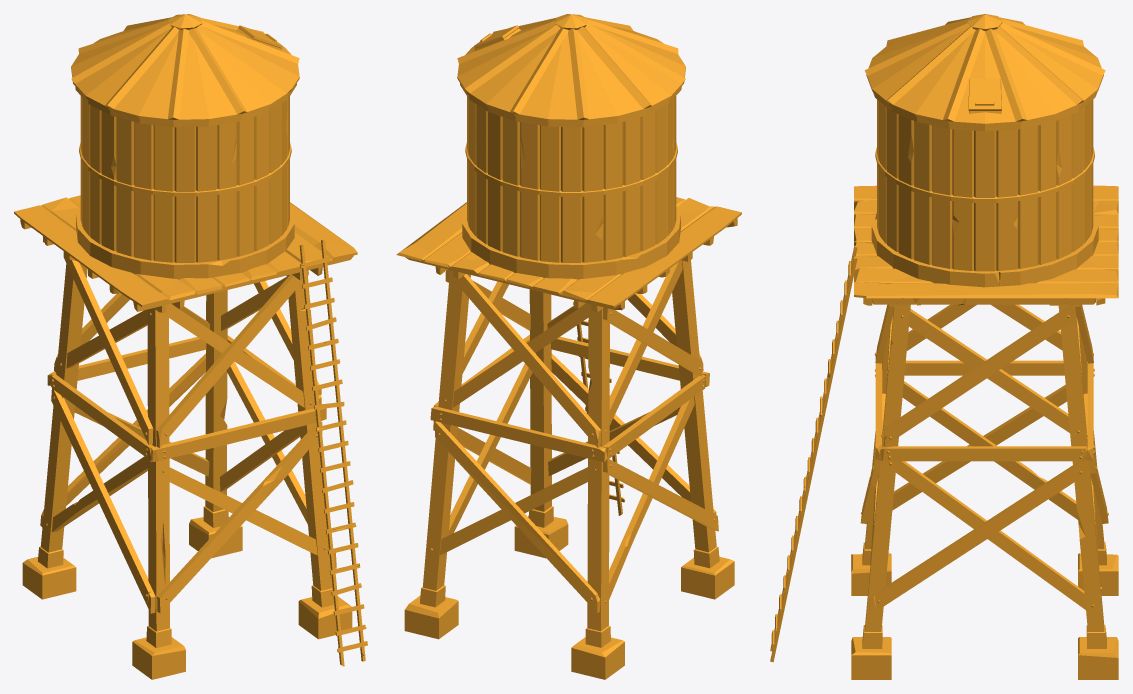
Rendered from SM_Tower_Water_Farm.fbx.
3 views of the same model, side by side, from view 1: azimuth 30°, elevation 25°; view 2: azimuth 150°, elevation 25°; view 3: azimuth 270°, elevation 25° (orthographic). The views are drawn at different scales.
Parts seen in each view (by area): view 1: tower-water-farm; view 2: tower-water-farm; view 3: tower-water-farm.
Part boxes in pixels (box(x1,y1,x2,y2)): tower-water-farm: box(14, 14, 367, 679); tower-water-farm: box(396, 14, 741, 679); tower-water-farm: box(770, 14, 1118, 679).
Size of the model in its own units: 4.75 by 12.3 by 6.33.
